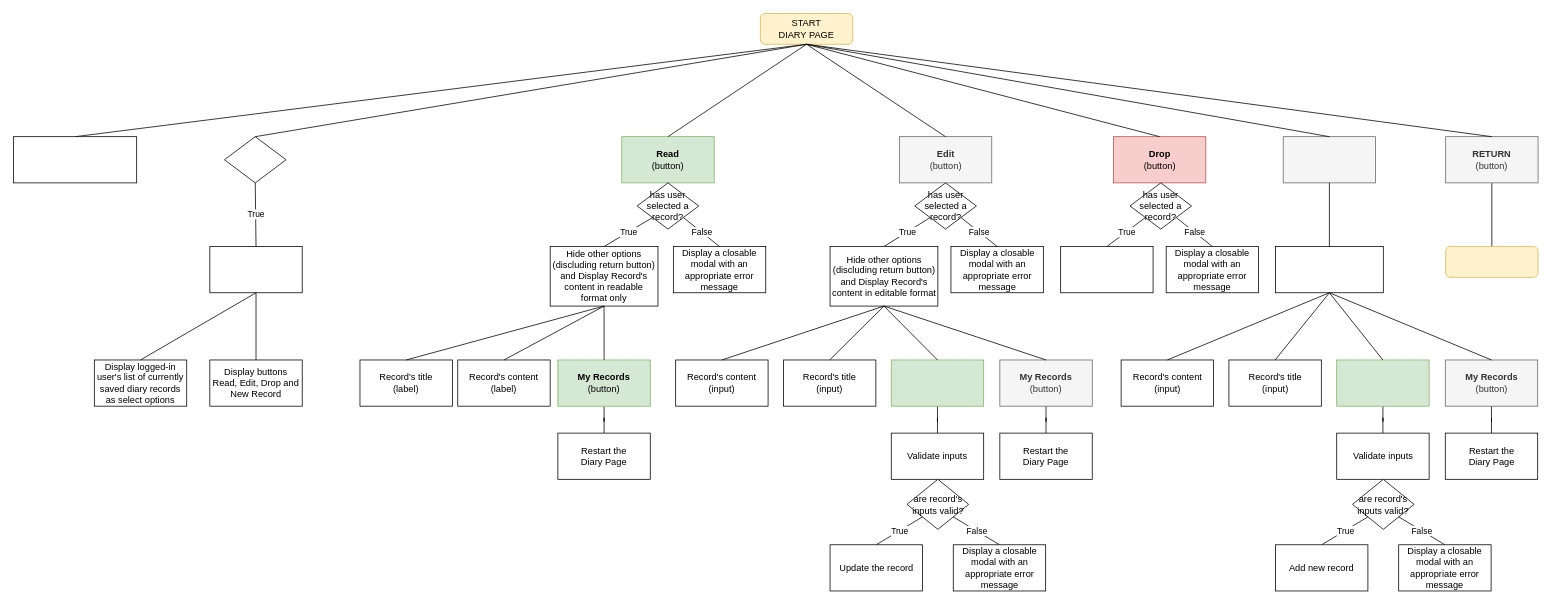
Some shapes in this 1552 by 604 pixel diagram are drawn without their labels. The shapes that lost their labels are listed below. From the top down, each one's centre as x and y in pixels, then its label:
At (75,159): "Hide all buttons and records (discluding return button).".
At (255,159): "is user logged-in?".
At (1329,159): "New Record (button)".
At (255,269): "Display Record's Manager options".
At (1106,269): "Delete the record".
At (1329,269): "Hide other options (discluding return button) and Display new record form".
At (1491,261): "Send Client to the Home Page".
At (937,382): "Save (button)".
At (1382,382): "Add (button)".
